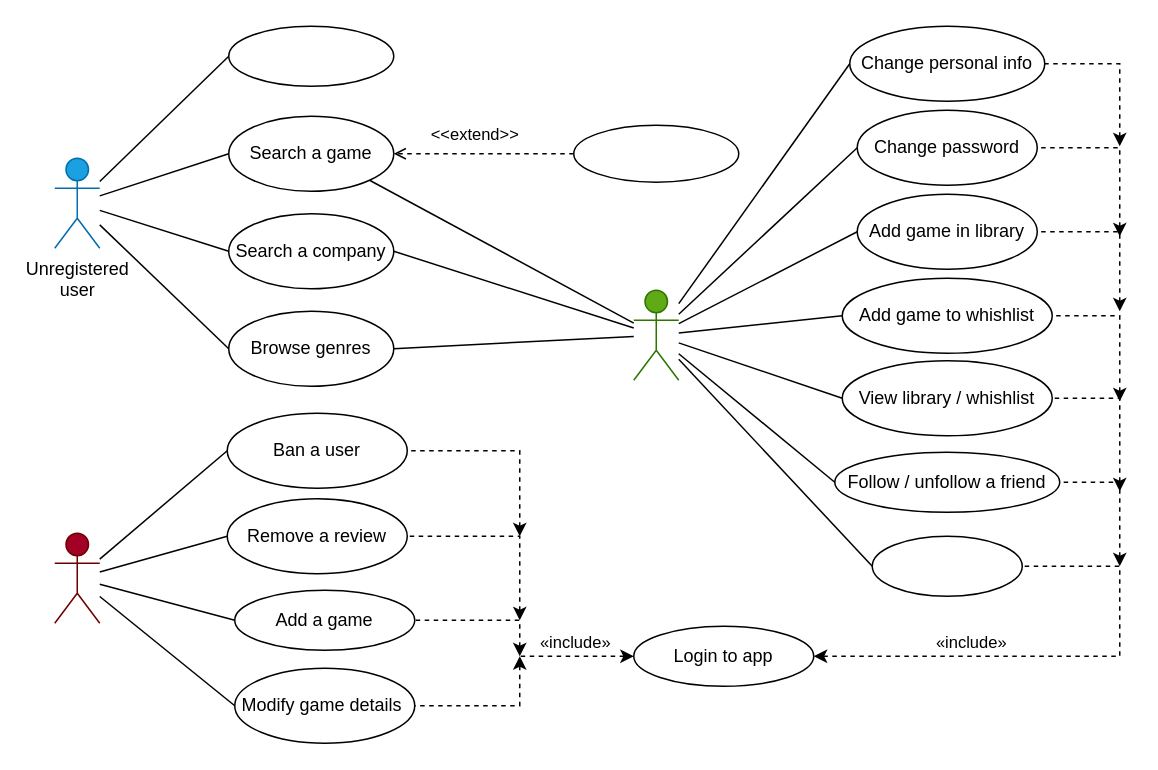
This 1158x770 diagram has some shape labels left out. Each missing label, with the box of its shape:
Block a user: (871, 535, 1022, 596)
Moderator: (53, 532, 100, 623)
Register to app: (227, 25, 394, 86)
Registered user: (632, 289, 679, 380)
View game details: (572, 124, 739, 182)
